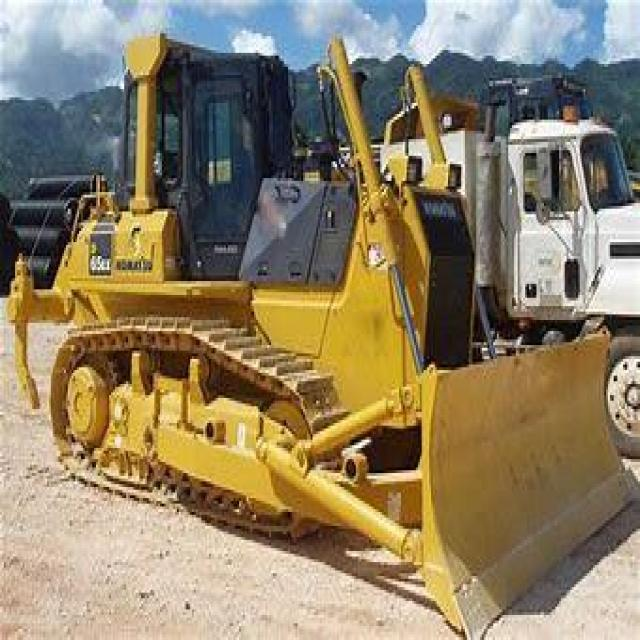buldozerpayloadergrader: (6, 28, 638, 629)
